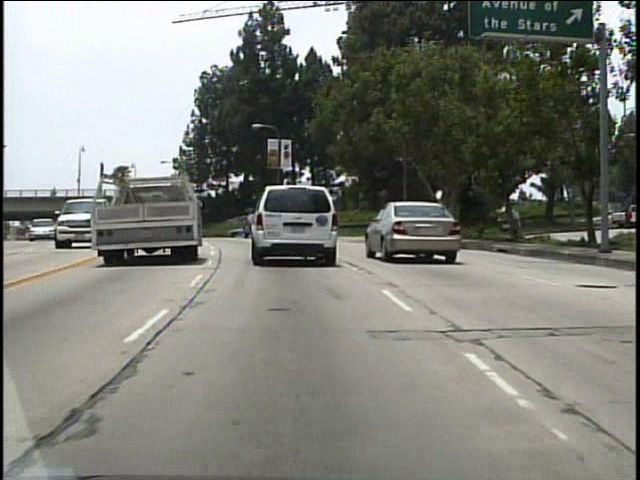person: (48, 183, 59, 204)
